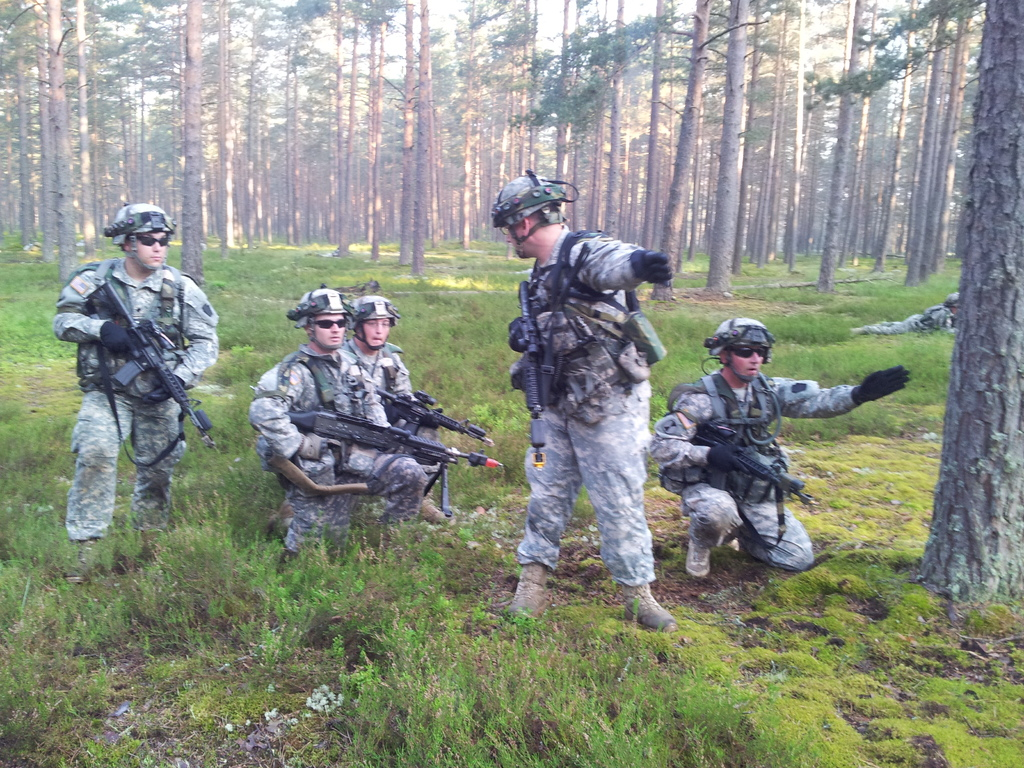Person: (489, 166, 678, 629), (647, 313, 908, 571), (52, 198, 219, 583), (245, 288, 432, 569), (350, 296, 447, 529)
